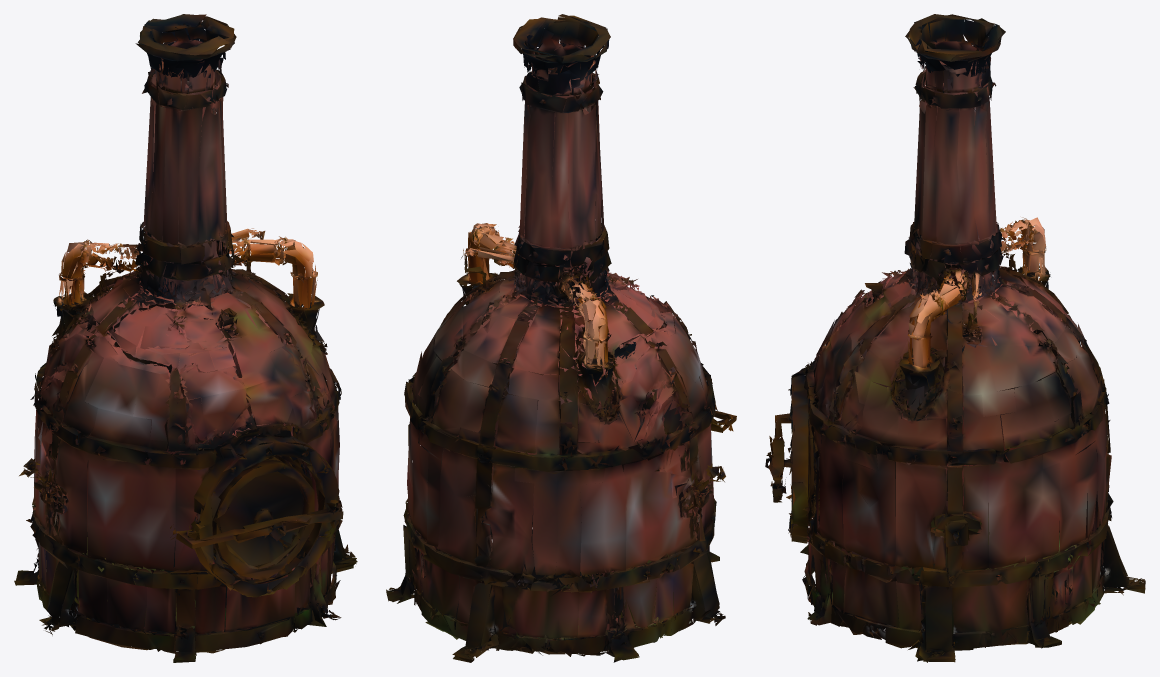
File: alchemy_furnace.glb
The picture shows the model from 3 angles, left to right: view 1: azimuth 30°, elevation 25°; view 2: azimuth 150°, elevation 25°; view 3: azimuth 270°, elevation 25°; orthographic projection.
Parts seen in each view (by area): view 1: alchemy_furnace_body; view 2: alchemy_furnace_body; view 3: alchemy_furnace_body.
Boxes of the visible parts, left/top/right/bottom form: alchemy_furnace_body: left=14, top=14, right=357, bottom=662; alchemy_furnace_body: left=386, top=14, right=736, bottom=662; alchemy_furnace_body: left=765, top=14, right=1145, bottom=662.
Size of the model in its own units: 5.44 by 9.15 by 5.59.
1 material, 1 textured.
